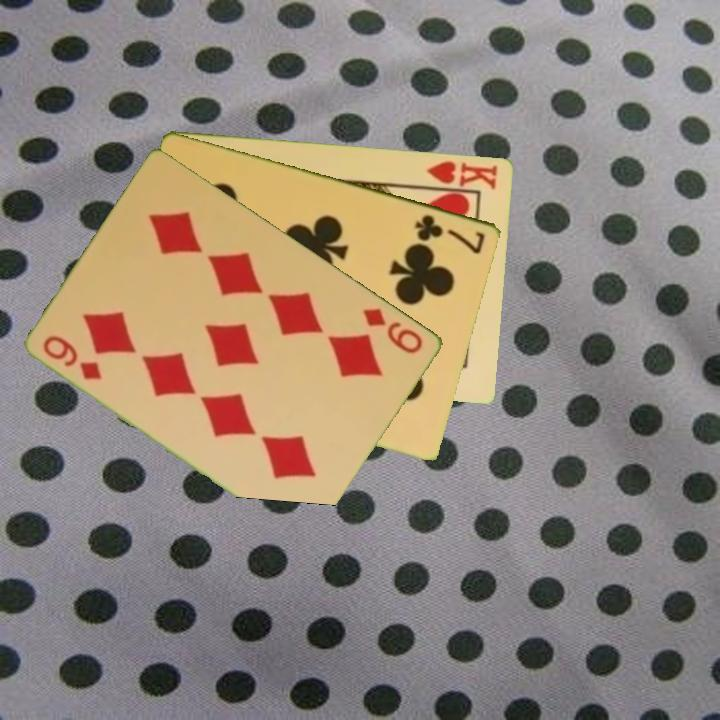7c: (411, 210, 489, 257)
9d: (359, 304, 427, 357), (39, 331, 106, 383)
Kh: (418, 157, 501, 194)
